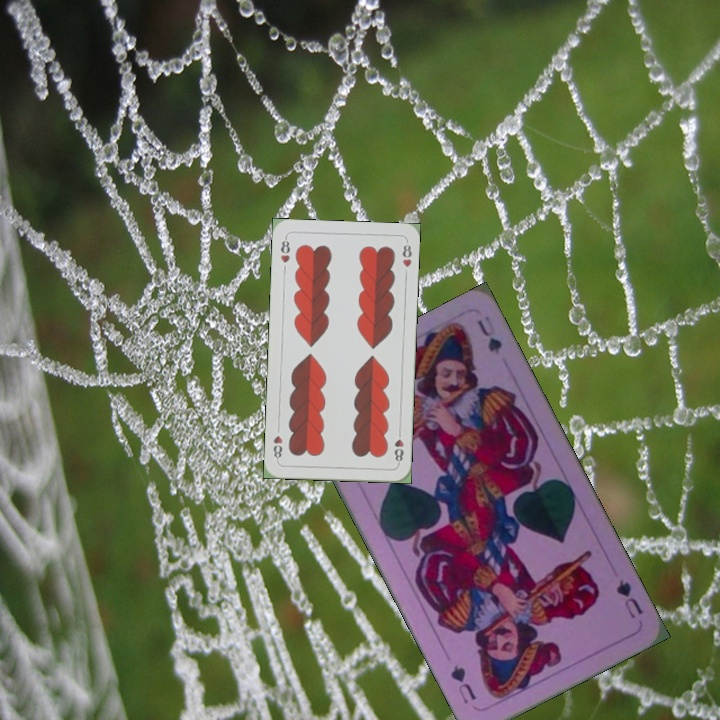GU: (612, 575, 646, 622)
H8: (390, 426, 406, 467), (277, 233, 292, 265)
